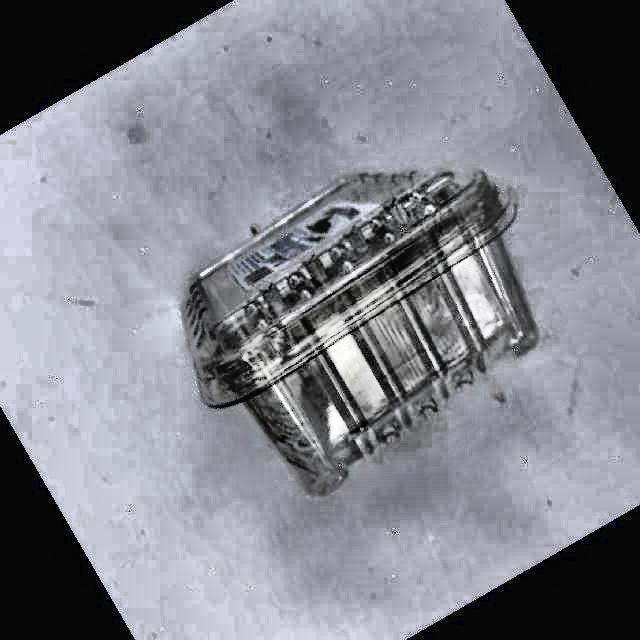plastic: (182, 170, 536, 493)
